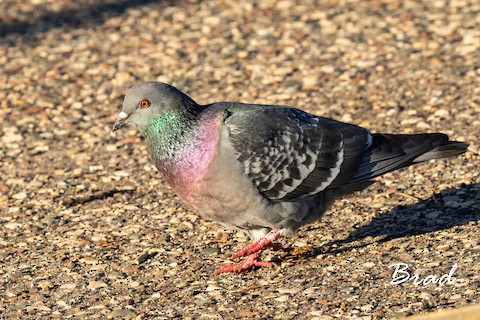pigeon: (109, 74, 471, 280)
